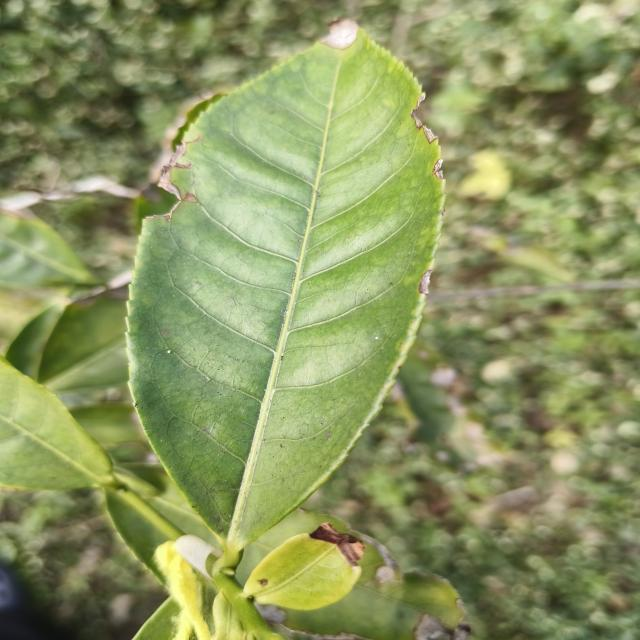Leaf: (128, 23, 444, 551), (237, 509, 470, 640), (0, 360, 116, 490), (105, 463, 219, 582), (244, 523, 364, 610), (44, 296, 128, 392), (0, 213, 94, 287)
